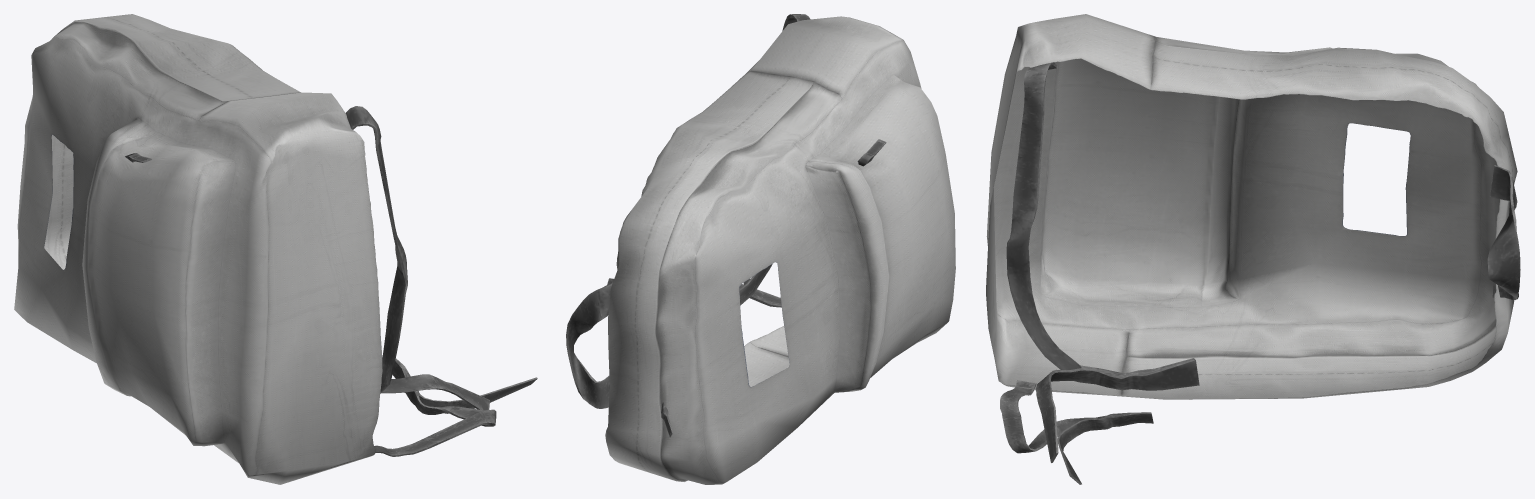
File: SM_School_Backpack_01c.fbx
3 views of the same model, side by side, from view 1: azimuth 30°, elevation 25°; view 2: azimuth 150°, elevation 25°; view 3: azimuth 270°, elevation 25° (orthographic). The views are drawn at different scales.
Parts seen in each view (by area): view 1: SM_School_Backpack_01c_LOD0; view 2: SM_School_Backpack_01c_LOD0; view 3: SM_School_Backpack_01c_LOD0.
Part boxes in pixels (box(x1,y1,x2,y2)): SM_School_Backpack_01c_LOD0: box(14, 14, 537, 484); SM_School_Backpack_01c_LOD0: box(566, 14, 955, 484); SM_School_Backpack_01c_LOD0: box(986, 14, 1520, 484).
Size of the model in its own units: 41.48 by 51.28 by 36.26.
Materials: 1 (1 with a texture image).
